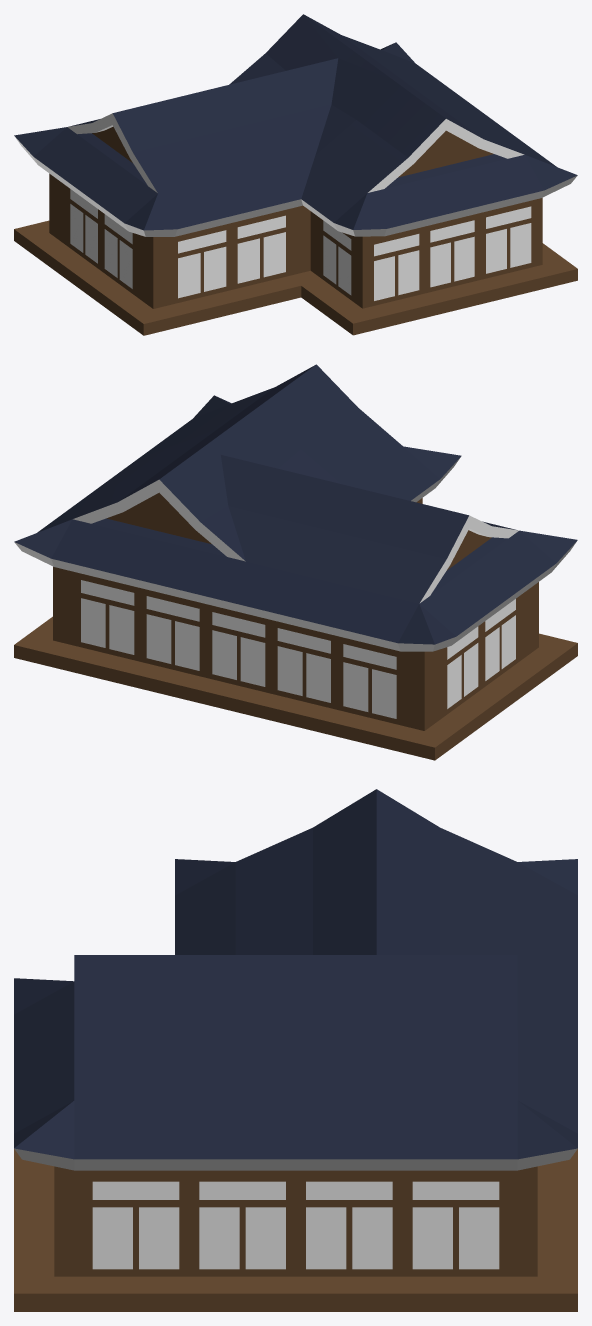
Rendered from japan_building-japan.fbx.
The picture shows the model from 3 angles, top to bottom: view 1: azimuth 30°, elevation 25°; view 2: azimuth 150°, elevation 25°; view 3: azimuth 270°, elevation 25°; orthographic projection. The views are drawn at different scales.
Parts seen in each view (by area): view 1: japan_building_japan; view 2: japan_building_japan; view 3: japan_building_japan.
Part boxes in pixels (left/top/right/bottom): japan_building_japan: left=14, top=14, right=577, bottom=335; japan_building_japan: left=14, top=364, right=577, bottom=760; japan_building_japan: left=14, top=789, right=577, bottom=1311.
Size of the model in its own units: 200 by 87.58 by 165.
